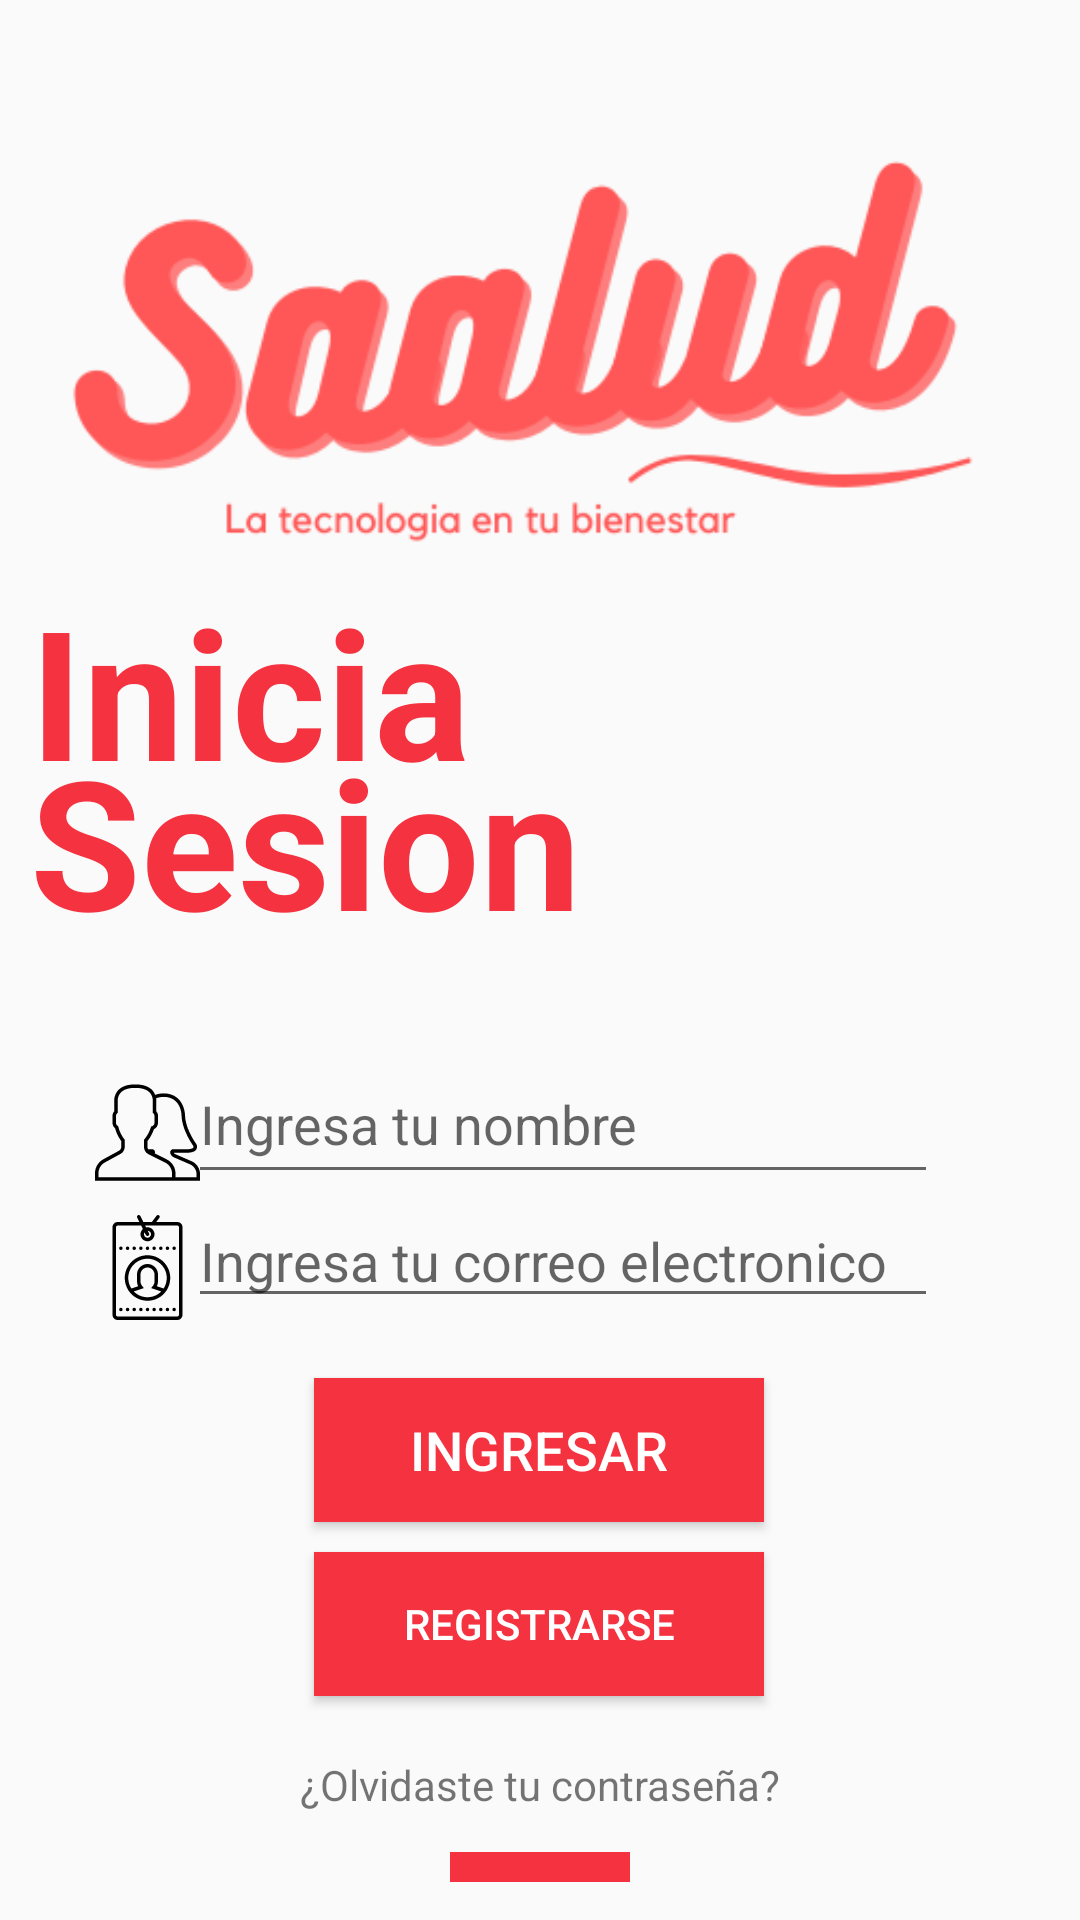

Named icons in this screenshot (1080 x 1920) and their centers, [x,y]:
id card: [161,1267]
users: [158,1132]
